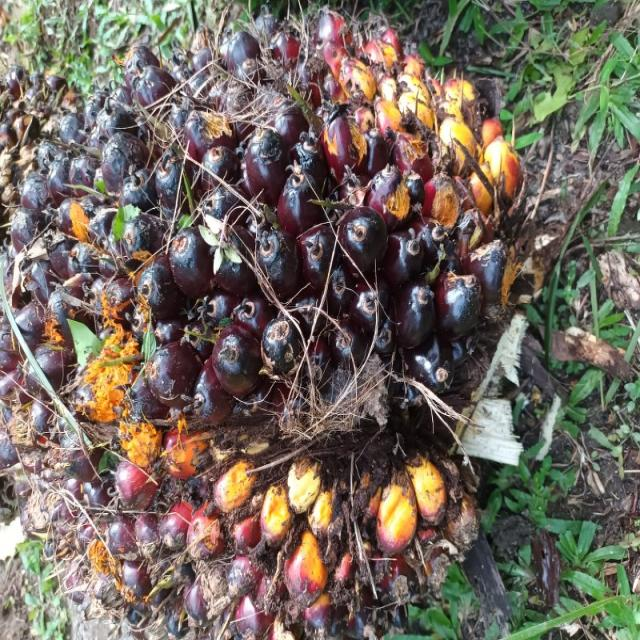fraksi 00: (11, 0, 480, 640)
